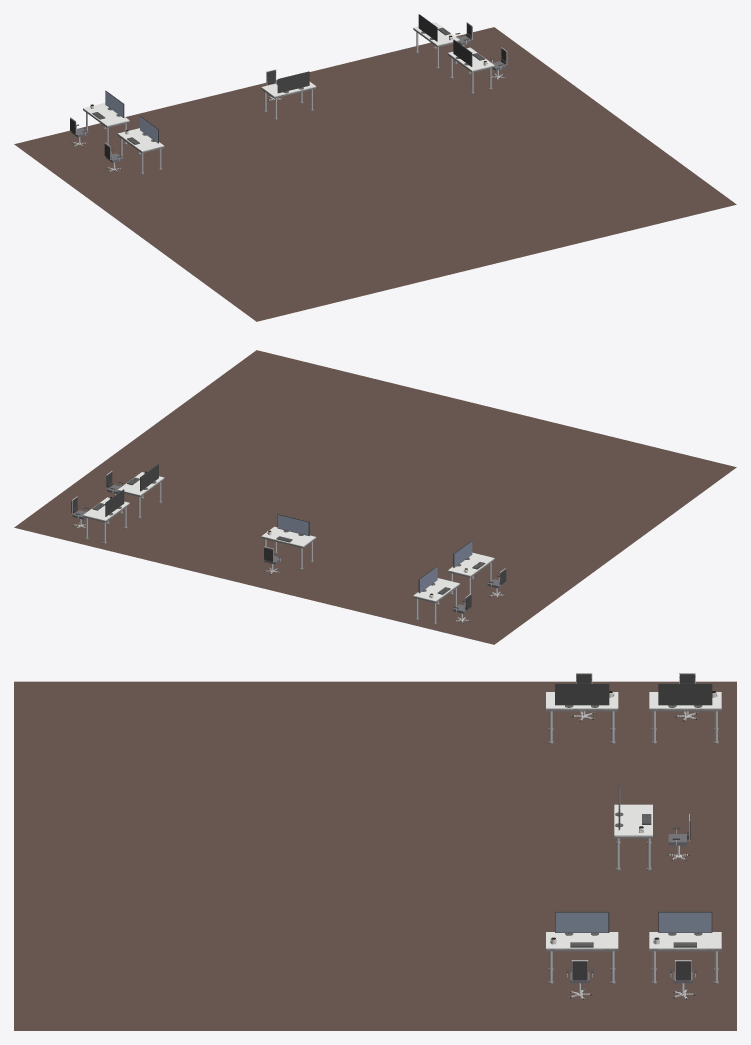
File: office_v52.glb
3 renders of one model, top to bottom at view 1: azimuth 30°, elevation 25°; view 2: azimuth 150°, elevation 25°; view 3: azimuth 270°, elevation 25°, orthographic. The views are drawn at different scales.
Parts seen in each view (by area): view 1: 平面; view 2: 平面, 立方體.166, 立方體.083, 立方體; view 3: 平面, 立方體.166, 立方體.332, 立方體.249, 立方體.088, 立方體.005, 立方體.008, 立方體.091, 立方體.414, 立方體.331, 立方體.255.
Part boxes in pixels (bbox=[...]): 平面: bbox=[14, 27, 736, 321]; 平面: bbox=[14, 350, 736, 644]; 立方體.166: bbox=[261, 526, 316, 546]; 立方體.083: bbox=[413, 578, 459, 601]; 立方體: bbox=[448, 552, 494, 576]; 平面: bbox=[14, 681, 736, 1030]; 立方體.166: bbox=[614, 804, 652, 836]; 立方體.332: bbox=[649, 932, 721, 949]; 立方體.249: bbox=[546, 932, 618, 949]; 立方體.088: bbox=[658, 683, 686, 705]; 立方體.005: bbox=[555, 683, 583, 705]; 立方體.008: bbox=[581, 683, 609, 705]; 立方體.091: bbox=[684, 683, 712, 705]; 立方體.414: bbox=[670, 960, 696, 999]; 立方體.331: bbox=[566, 960, 593, 999]; 立方體.255: bbox=[581, 912, 608, 932].
Bounding box in the file's own units: 16 × 1.25 × 14.
